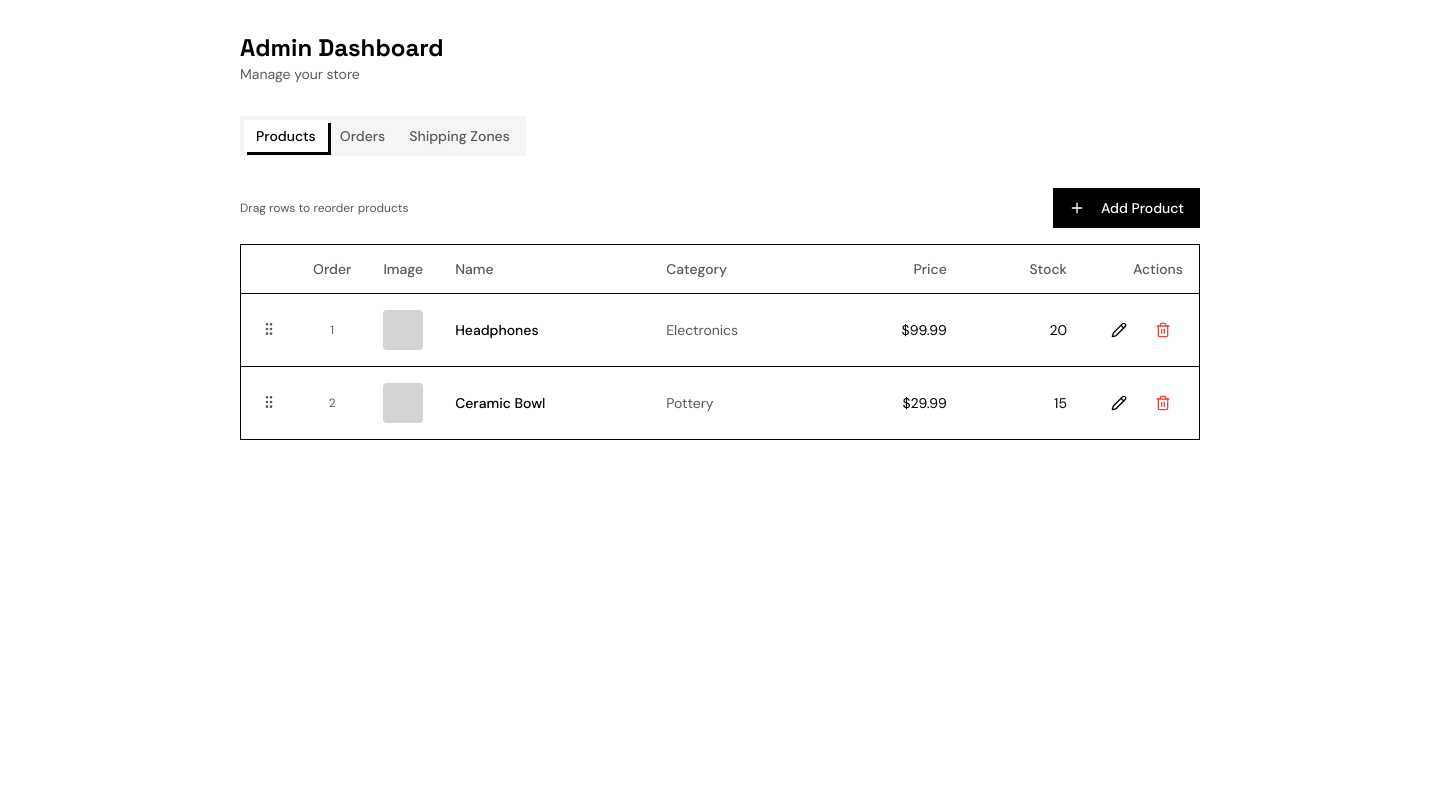
Scenario: AdminPage › closes add dialog when Cancel is clicked
This screenshot has width=1440, height=810.
Click the button "Add Product": (1126, 208) 1053,188 -> 1200,228
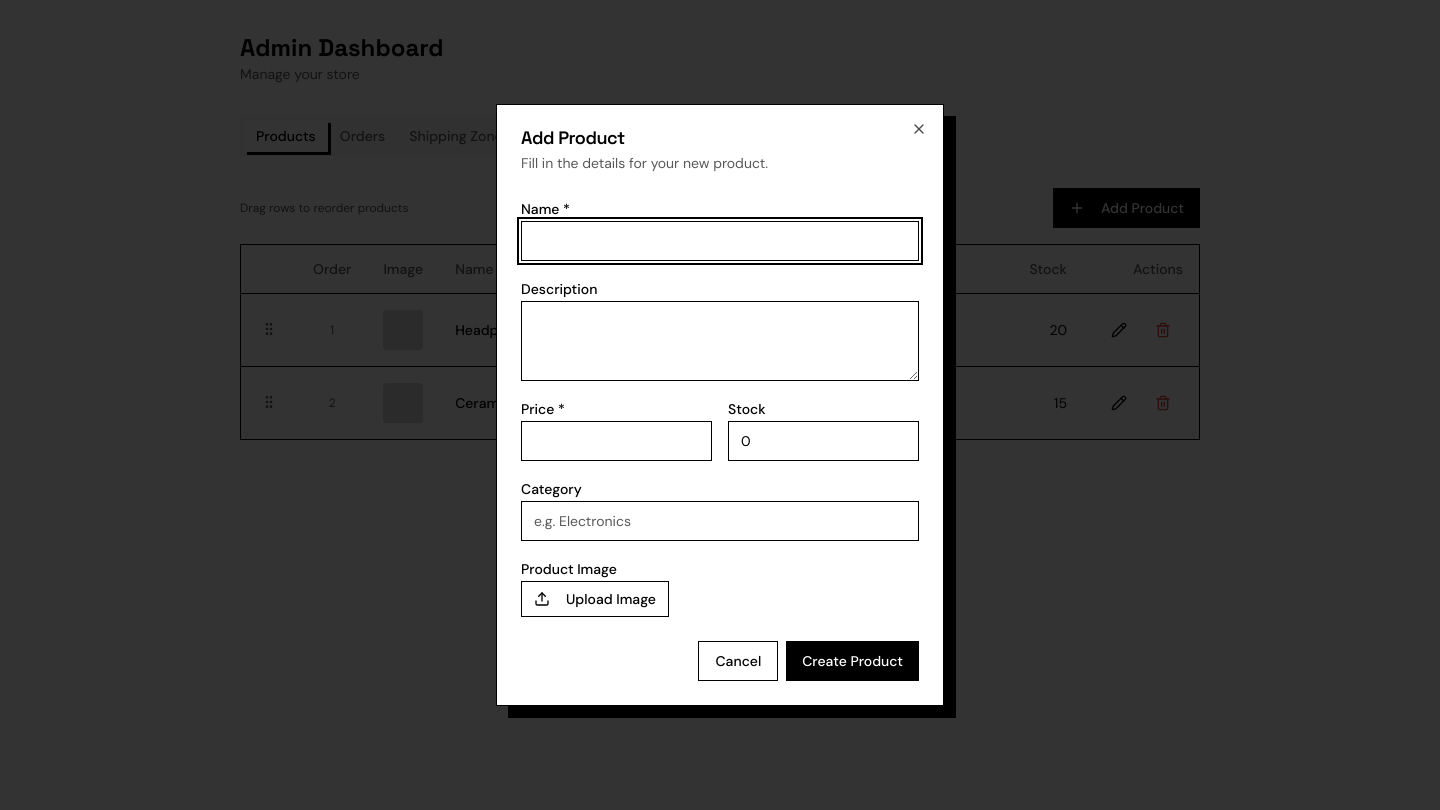
Result: the button "Create Product" is shown at 786,641 -> 919,681
Click the button "Cancel": (738, 661) 698,641 -> 778,681
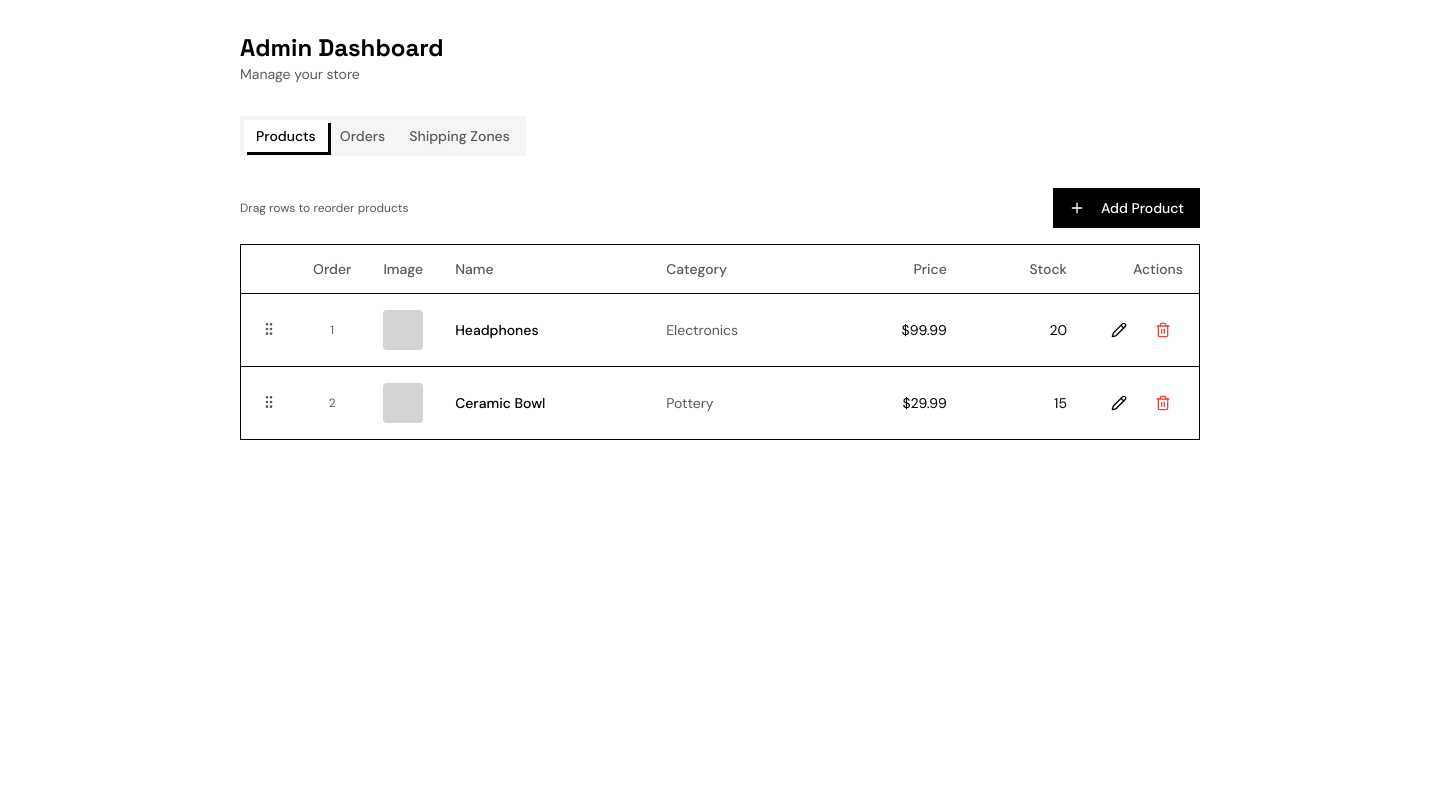
Result: the button "Create Product" is gone
